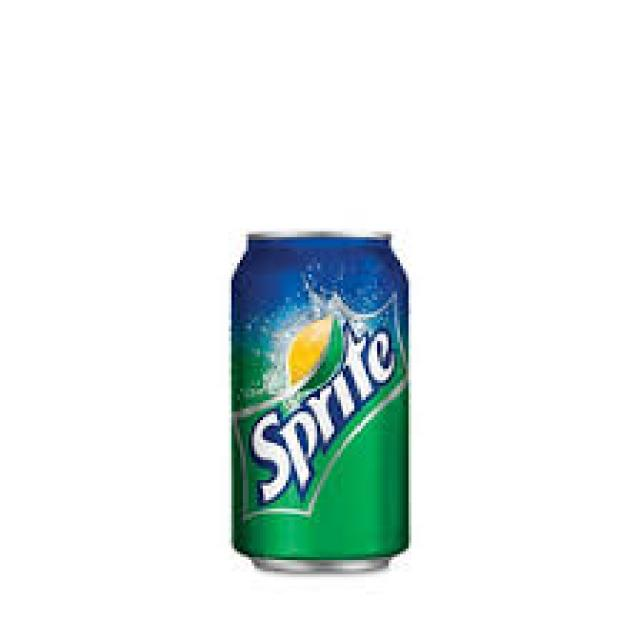aluminum_can: (231, 237, 411, 571)
